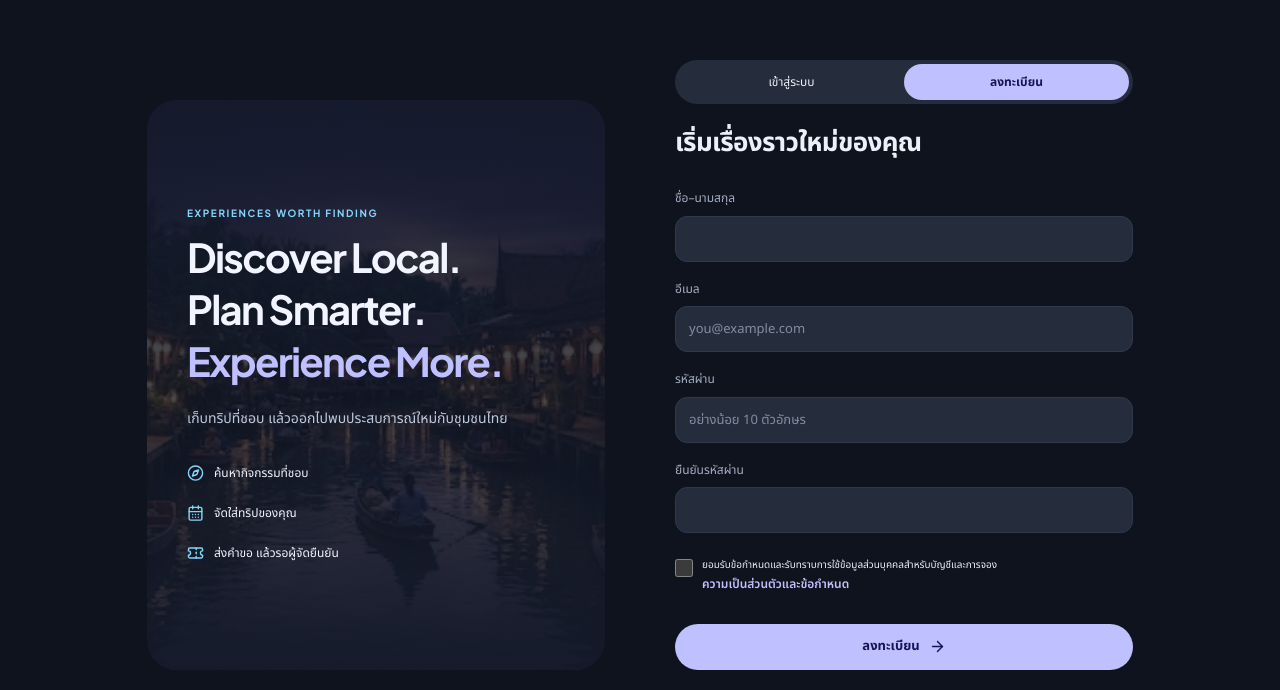
Scenario: Working UI interactions › shows translated validation errors rather than accepting invalid registration
The width and height of the screenshot is (1280, 690).
Click the button "ลงทะเบียน": (904, 647) [675,624,1133,670]
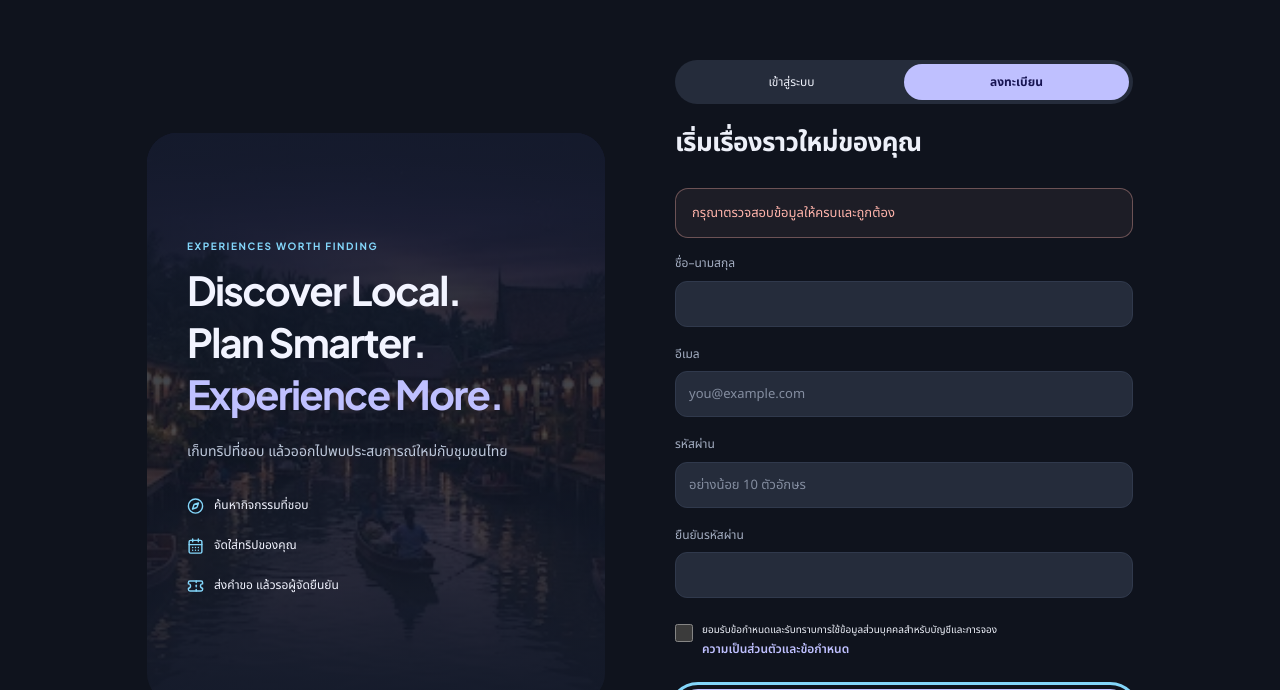
Check: the message shows "กรุณาตรวจสอบข้อมูล", box [692,203,895,223]
